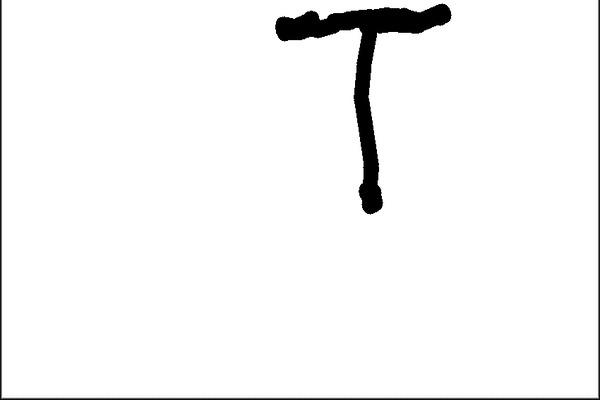T: (249, 0, 453, 216)
